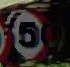Speed limit: (18, 11, 61, 59)
